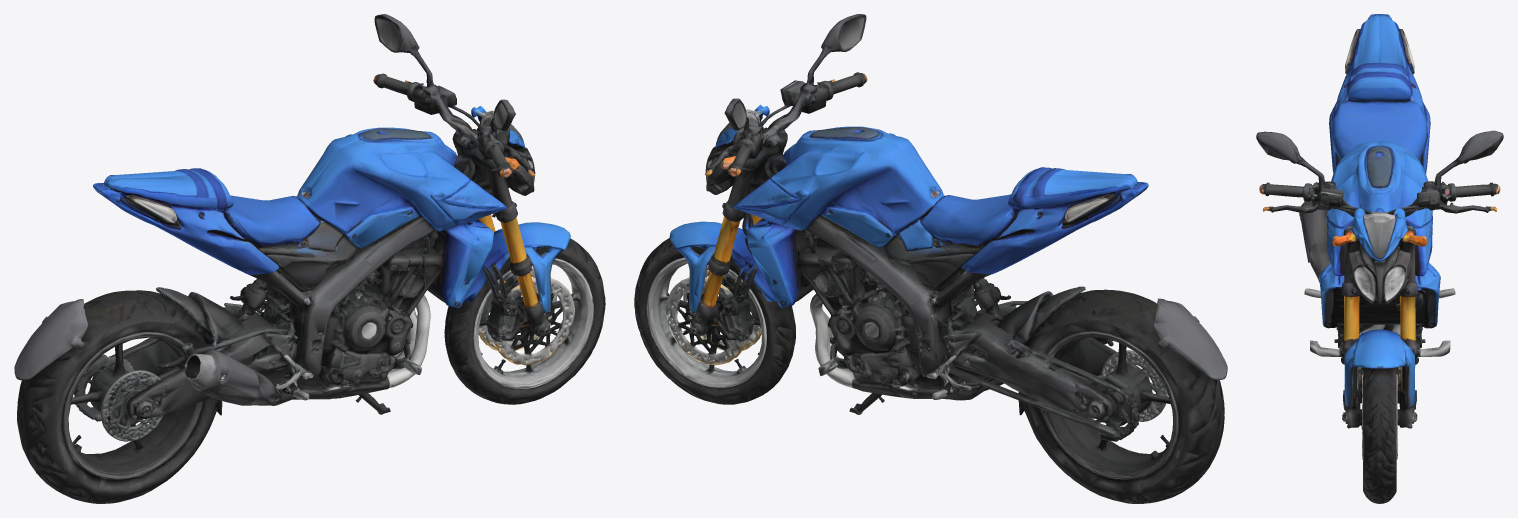
File: bike-mid.c63d6dd3.glb
3 renders of one model, left to right at view 1: azimuth 30°, elevation 25°; view 2: azimuth 150°, elevation 25°; view 3: azimuth 270°, elevation 25°, orthographic. The views are drawn at different scales.
Visible parts, largest first — view 1: trim_dark (×25), body_paint (×2); view 2: trim_dark (×27), body_paint (×2); view 3: trim_dark (×19), body_paint (×3).
Boxes of the visible parts, x1=… form: trim_dark (×25): x1=14, y1=14, x2=605, y2=503; body_paint (×2): x1=452, y1=125, x2=531, y2=286; trim_dark (×27): x1=634, y1=14, x2=1227, y2=503; body_paint (×2): x1=700, y1=128, x2=787, y2=306; trim_dark (×19): x1=1256, y1=14, x2=1503, y2=503; body_paint (×3): x1=1341, y1=225, x2=1427, y2=391.
Size of the model in its own units: 2.02 by 1.19 by 0.8067.
53 materials, 53 textured.
